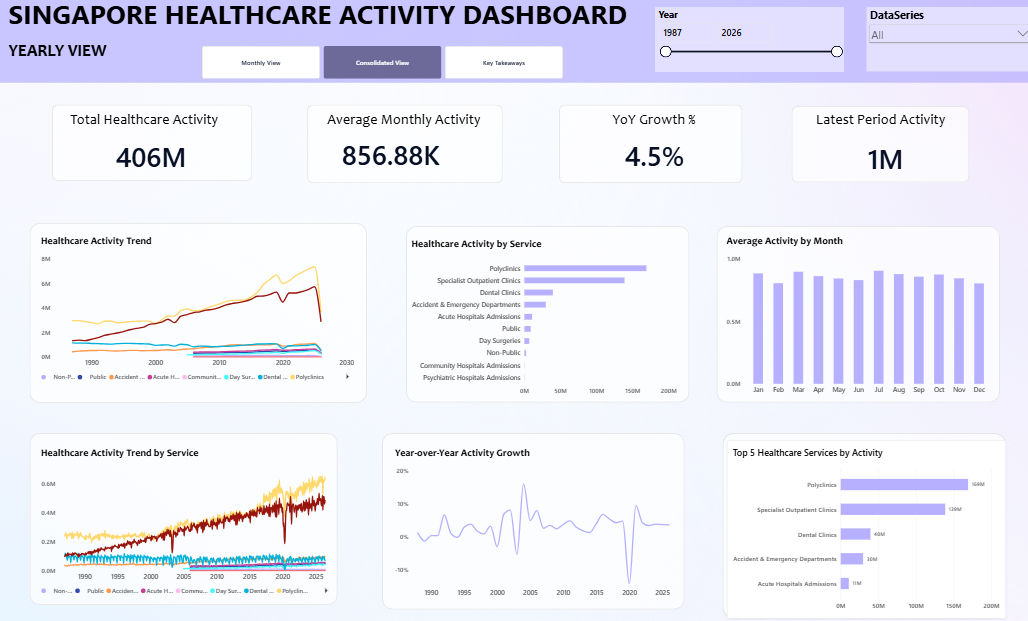

What the dashboard file says about the page in this screenshot:
{"tool":"powerbi","page":{"name":"Consolidated View","canvas":[2300,1400],"ordinal":1},"visuals":[{"type":"shape","box":[0,0,2300,195],"z":0},{"type":"textbox","box":[22.5,100,280,50],"z":1000},{"type":"textbox","box":[23.3,0,1496.7,93.3],"z":2000},{"type":"shape","box":[120,242.5,445,170],"z":3000},{"type":"cardVisual","fields":{"Data":["sg_hospital_admissions_monthly.Total Healthcare Activity"]},"box":[167.5,300,347.5,110],"z":4000},{"type":"textbox","box":[137.5,257.5,376.7,53.3],"z":5000},{"type":"shape","box":[685,242.5,435,175],"z":6000},{"type":"cardVisual","fields":{"Data":["sg_hospital_admissions_monthly.Average Monthly Activity"]},"box":[707.5,285,332.5,130],"z":7000},{"type":"textbox","box":[702.5,257.5,397.5,52.5],"z":8000},{"type":"shape","box":[1247.5,242.5,407.5,175],"z":9000},{"type":"cardVisual","fields":{"Data":["sg_hospital_admissions_monthly.YoY Growth %"]},"box":[1335,292.5,245,122.5],"z":10000},{"type":"shape","box":[1762.5,247.5,395,170],"z":11000},{"type":"cardVisual","fields":{"Data":["sg_hospital_admissions_monthly.Latest Year Activity"]},"box":[1830,307.5,285,107.5],"z":12000},{"type":"textbox","box":[1805,257.5,310,52.5],"z":13000},{"type":"textbox","box":[1297.5,255,322.5,55],"z":14000},{"type":"shape","box":[70,505,750,400],"z":15000},{"type":"lineChart","title":"Healthcare Activity Trend","fields":{"Category":["DateTable.Year"],"Series":["sg_hospital_admissions_monthly.DataSeries"],"Y":["sg_hospital_admissions_monthly.Total Healthcare Activity"]},"box":[83.3,520,720,355],"z":16000},{"type":"shape","box":[70,972.5,685,382.5],"z":17000},{"type":"lineChart","title":"Healthcare Activity Trend by Service","fields":{"Category":["DateTable.Date"],"Series":["sg_hospital_admissions_monthly.DataSeries"],"Y":["sg_hospital_admissions_monthly.Total Healthcare Activity"]},"box":[82.5,990,672.5,360],"z":18000},{"type":"shape","box":[852.5,972.5,672.5,392.5],"z":19000},{"type":"shape","box":[1597.5,512.5,630,392.5],"z":20000},{"type":"shape","box":[907.5,512.5,630,392.5],"z":21000},{"type":"lineChart","title":"Year-over-Year Activity Growth","fields":{"Category":["DateTable.Year"],"Y":["sg_hospital_admissions_monthly.YoY Growth %"]},"box":[870,990,650,365],"z":22000},{"type":"columnChart","title":"Average Activity by Month","fields":{"Category":["DateTable.Month Name"],"Y":["sg_hospital_admissions_monthly.Average Activity by Month"]},"box":[1605,520,615,385],"z":23000},{"type":"clusteredBarChart","title":"Healthcare Activity by Service","fields":{"Category":["sg_hospital_admissions_monthly.DataSeries"],"Y":["sg_hospital_admissions_monthly.Total Healthcare Activity"]},"box":[907.5,525,615,380],"z":24000},{"type":"slicer","fields":{"Values":["DateTable.Year"]},"box":[1460,27.5,420,142.5],"z":25000},{"type":"shape","box":[1610,972.5,630,412.5],"z":26000},{"type":"barChart","title":"Top 5 Healthcare Services by Activity","fields":{"Category":["sg_hospital_admissions_monthly.DataSeries"],"Y":["sg_hospital_admissions_monthly.Total Healthcare Activity"]},"box":[1620,990,620,395],"z":27000},{"type":"slicer","fields":{"Values":["sg_hospital_admissions_monthly.DataSeries"]},"box":[1930,26.7,370,143.3],"z":28000},{"type":"pageNavigator","box":[453.3,113.3,803.3,73.3],"z":28001}]}

Visuals, with their boxes in screenshot pixels (x1, y1, x2, y2), scaled from the page's 2300x1400 canvas onto the 1028x621 screenshot:
shape: l=0, t=0, r=1027, b=86
textbox: l=10, t=44, r=135, b=67
textbox: l=10, t=0, r=679, b=41
shape: l=54, t=108, r=253, b=183
cardVisual - sg_hospital_admissions_monthly.Total Healthcare Activity: l=75, t=133, r=230, b=182
textbox: l=61, t=114, r=230, b=138
shape: l=306, t=108, r=501, b=185
cardVisual - sg_hospital_admissions_monthly.Average Monthly Activity: l=316, t=126, r=465, b=184
textbox: l=314, t=114, r=492, b=138
shape: l=558, t=108, r=740, b=185
cardVisual - sg_hospital_admissions_monthly.YoY Growth %: l=597, t=130, r=706, b=184
shape: l=788, t=110, r=964, b=185
cardVisual - sg_hospital_admissions_monthly.Latest Year Activity: l=818, t=136, r=945, b=184
textbox: l=807, t=114, r=945, b=138
textbox: l=580, t=113, r=724, b=138
shape: l=31, t=224, r=367, b=401
"Healthcare Activity Trend" lineChart: l=37, t=231, r=359, b=388
shape: l=31, t=431, r=337, b=601
"Healthcare Activity Trend by Service" lineChart: l=37, t=439, r=337, b=599
shape: l=381, t=431, r=682, b=605
shape: l=714, t=227, r=996, b=401
shape: l=406, t=227, r=687, b=401
"Year-over-Year Activity Growth" lineChart: l=389, t=439, r=679, b=601
"Average Activity by Month" columnChart: l=717, t=231, r=992, b=401
"Healthcare Activity by Service" clusteredBarChart: l=406, t=233, r=680, b=401
slicer - DateTable.Year: l=653, t=12, r=840, b=75
shape: l=720, t=431, r=1001, b=614
"Top 5 Healthcare Services by Activity" barChart: l=724, t=439, r=1001, b=614
slicer - sg_hospital_admissions_monthly.DataSeries: l=863, t=12, r=1027, b=75
pageNavigator: l=203, t=50, r=562, b=83
